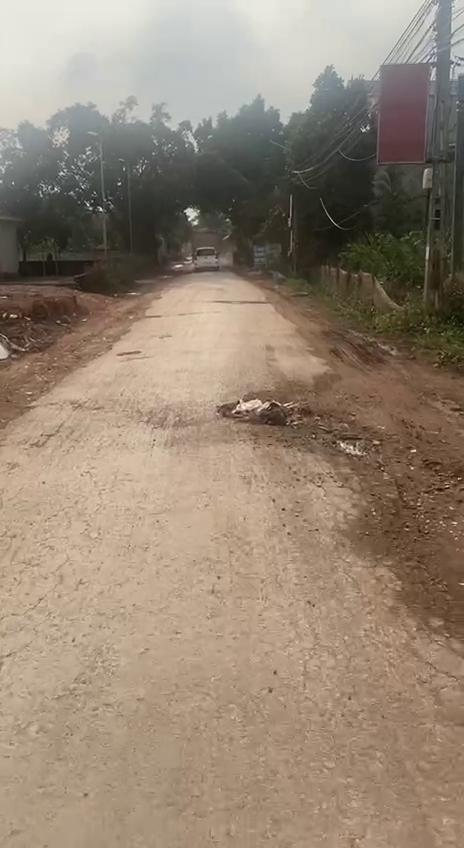pothole: (216, 396, 319, 433)
